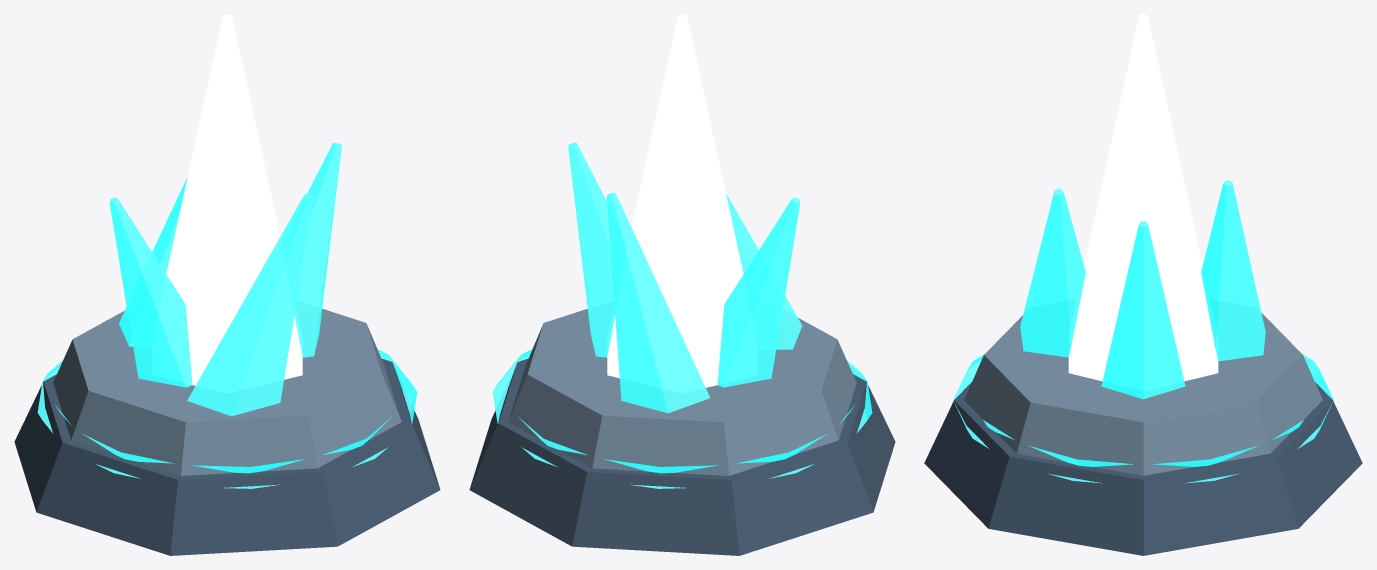
The model's file is cryo.glb.
3 views of the same model, side by side, from view 1: azimuth 30°, elevation 25°; view 2: azimuth 150°, elevation 25°; view 3: azimuth 270°, elevation 25° (orthographic).
Bounding box in the file's own units: 0.88 × 0.99 × 0.88.
